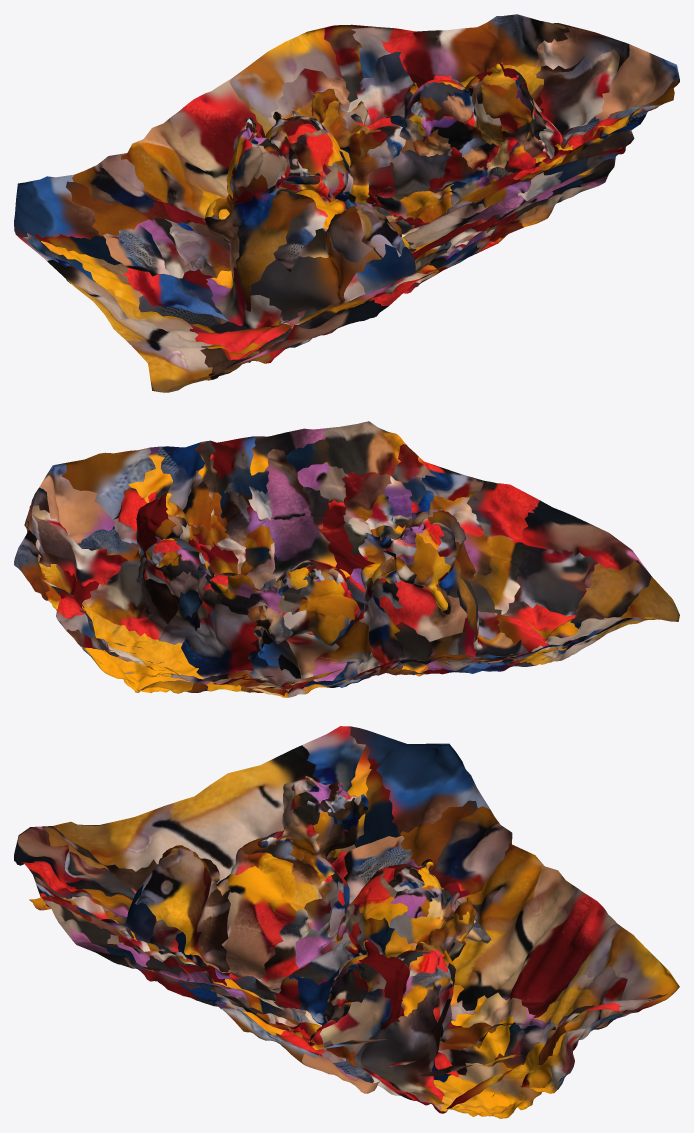
3 renders of one model, top to bottom at view 1: azimuth 30°, elevation 25°; view 2: azimuth 150°, elevation 25°; view 3: azimuth 270°, elevation 25°, orthographic. The views are drawn at different scales.
Parts seen in each view (by area): view 1: ObjectCapture; view 2: ObjectCapture; view 3: ObjectCapture.
Boxes of the visible parts, box(x1,y1,x2,y2) form: ObjectCapture: box(14, 14, 679, 392); ObjectCapture: box(14, 421, 679, 697); ObjectCapture: box(14, 726, 679, 1118).
Bounding box in the file's own units: 2.74 × 0.7697 × 2.21.
